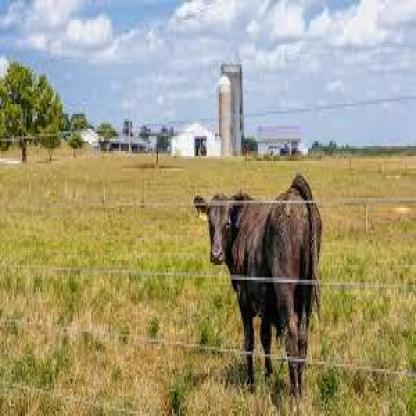cow: (194, 174, 322, 398)
